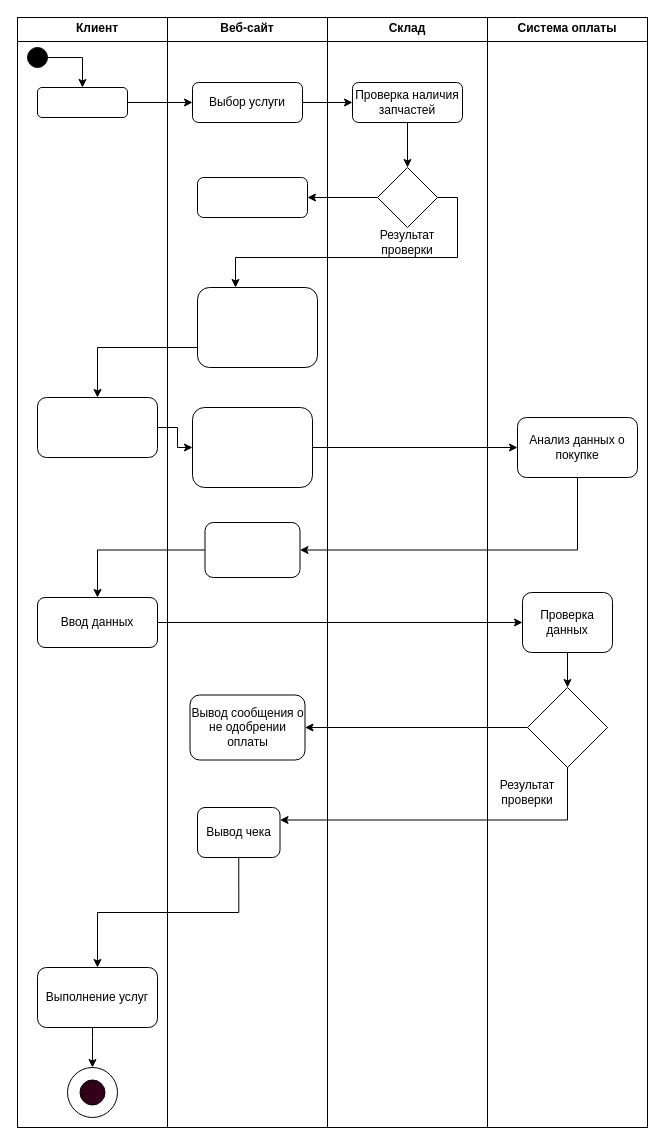
This 665x1145 diagram has some shape labels left out. The shapes that lost their labels are listed below. From the top down, each one's centre as x and y in pixels, then its label:
At point 82,102: "Запуск сайта".
At point 252,197: "Сообщение об отсутствии".
At point 257,327: "Вывод предложения о добавлении товара в корзину".
At point 97,427: "Подтверждение добавлени в корзину".
At point 252,447: "Подтверждение покупки".
At point 252,550: "Запрос ввода данных оплаты".
